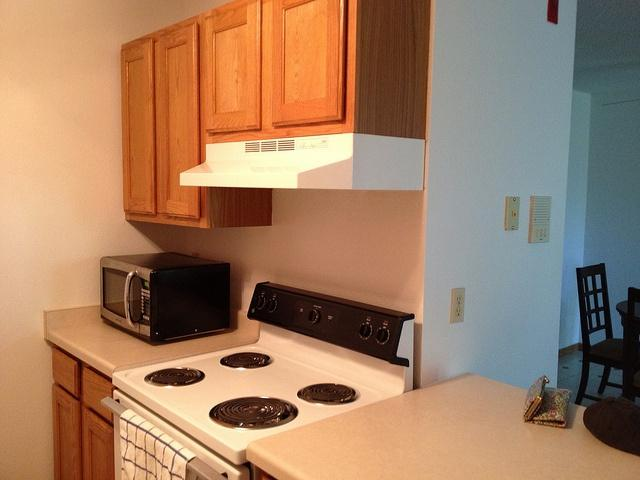Kursi: (570, 261, 624, 406)
Lemari: (119, 0, 431, 227)
